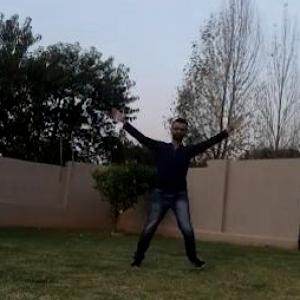takeoff: (94, 99, 224, 272)
